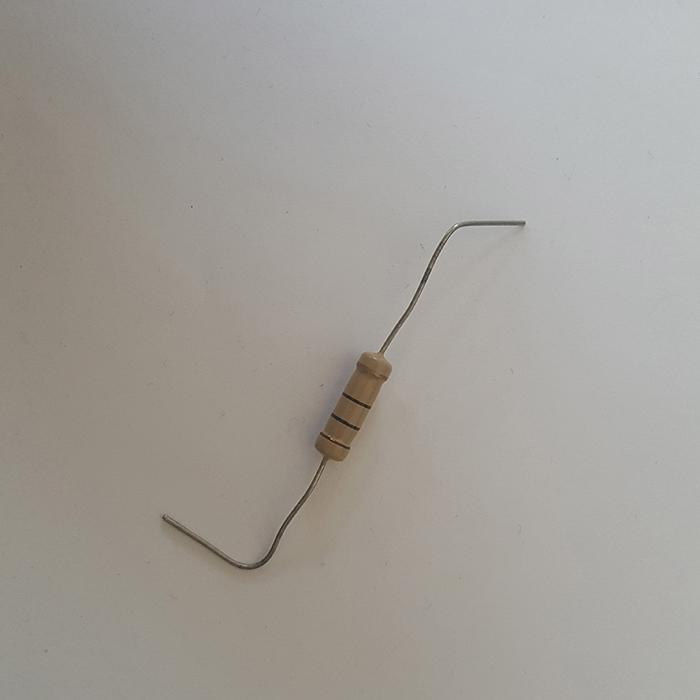resistor: (316, 350, 392, 460)
